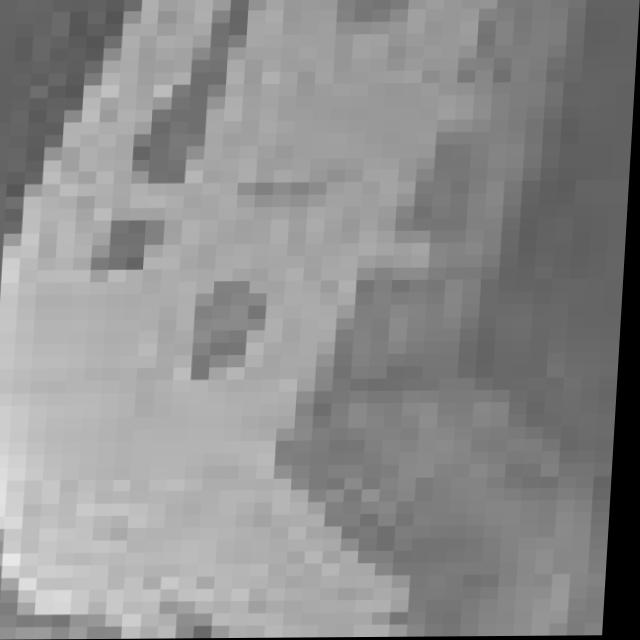fracture: (0, 11, 634, 637)
